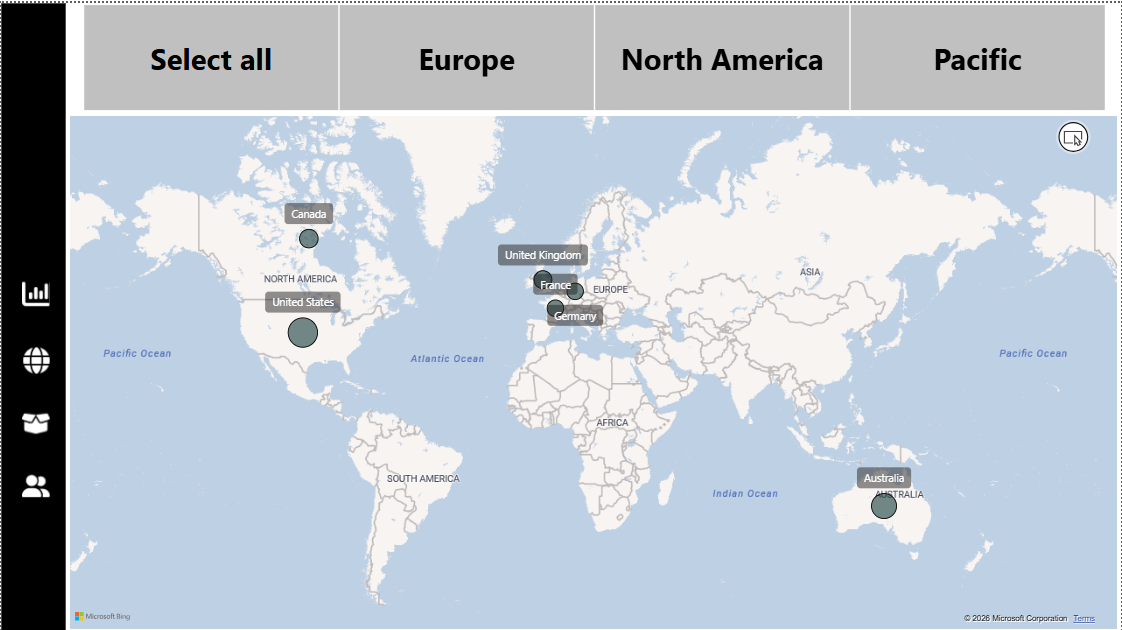

This screenshot's page, from the dashboard's own definition file:
{"tool":"powerbi","page":{"name":"Map","canvas":[1280,720],"ordinal":1},"visuals":[{"type":"map","fields":{"Category":["Territory Lookup.Country"],"Size":["Measure table.Total orders"]},"box":[74,124,1206,596],"z":0},{"type":"actionButton","box":[20,300,39.6,65.2],"z":0,"group":"g1"},{"type":"slicer","fields":{"Values":["Territory Lookup.Continent"]},"box":[74,0,1206,124],"z":1000},{"type":"actionButton","box":[20,452.4,39.6,55.8],"z":1000,"group":"g1"},{"type":"shape","title":"Navigation panel","box":[0,0,74.3,718.6],"z":2000},{"type":"actionButton","box":[20,524.5,39.6,55.8],"z":2000,"group":"g1"},{"type":"group","id":"g1","title":"Navigation Buttons","box":[20,300,40,280],"z":3000},{"type":"actionButton","box":[20.7,381.5,38.2,54.7],"z":3000,"group":"g1"}]}

Visuals, with their boxes on the page's 1280x720 design canvas (x1, y1, x2, y2). These are canvas units, not pixel positions in the 1122x630 screenshot, which may show the page scaled, cropped or inside an application window:
map - Territory Lookup.Country x Measure table.Total orders: detection(74, 124, 1280, 720)
actionButton: detection(20, 300, 60, 365)
slicer - Territory Lookup.Continent: detection(74, 0, 1280, 124)
actionButton: detection(20, 452, 60, 508)
"Navigation panel" shape: detection(0, 0, 74, 719)
actionButton: detection(20, 524, 60, 580)
"Navigation Buttons" group: detection(20, 300, 60, 580)
actionButton: detection(21, 382, 59, 436)
